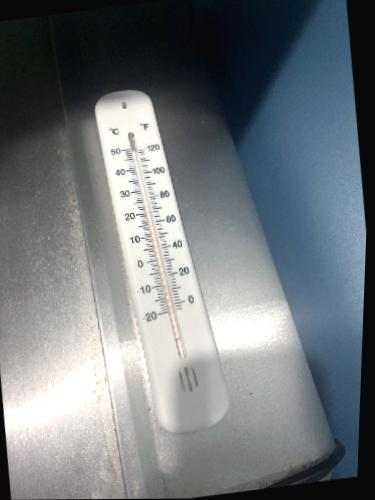thermo: (93, 86, 235, 433)
